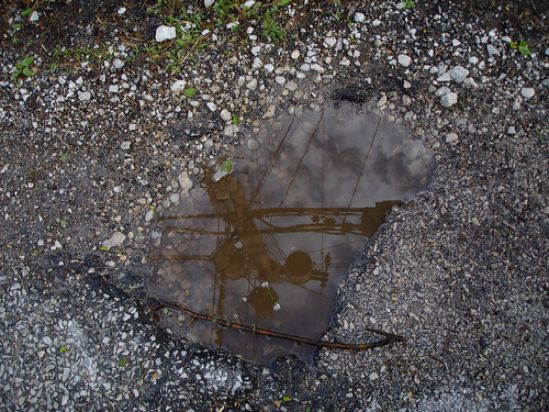pothole: (74, 84, 457, 387)
